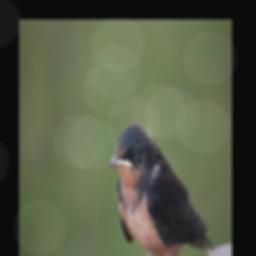Swallow: (108, 121, 214, 256)
